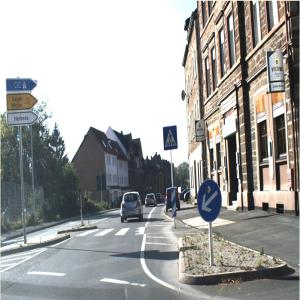keep left: (198, 179, 223, 223)
